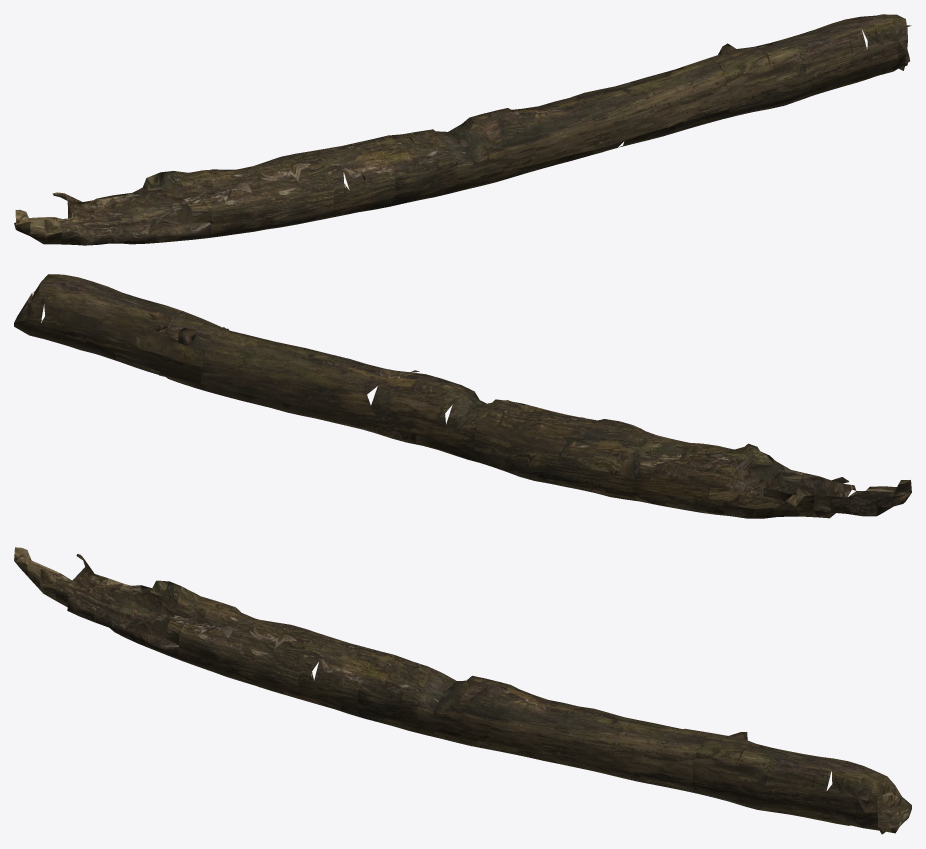
The model's file is tronco.glb.
3 renders of one model, top to bottom at view 1: azimuth 30°, elevation 25°; view 2: azimuth 150°, elevation 25°; view 3: azimuth 330°, elevation 25°, orthographic.
Visible parts, largest first — view 1: tronco; view 2: tronco; view 3: tronco.
Part boxes in pixels (x1,y1,x2,y2): tronco: [14, 14, 911, 245]; tronco: [14, 274, 911, 518]; tronco: [14, 547, 911, 834].
Bounding box in the file's own units: 3.02 × 0.272 × 0.2646.
1 material, 1 textured.
